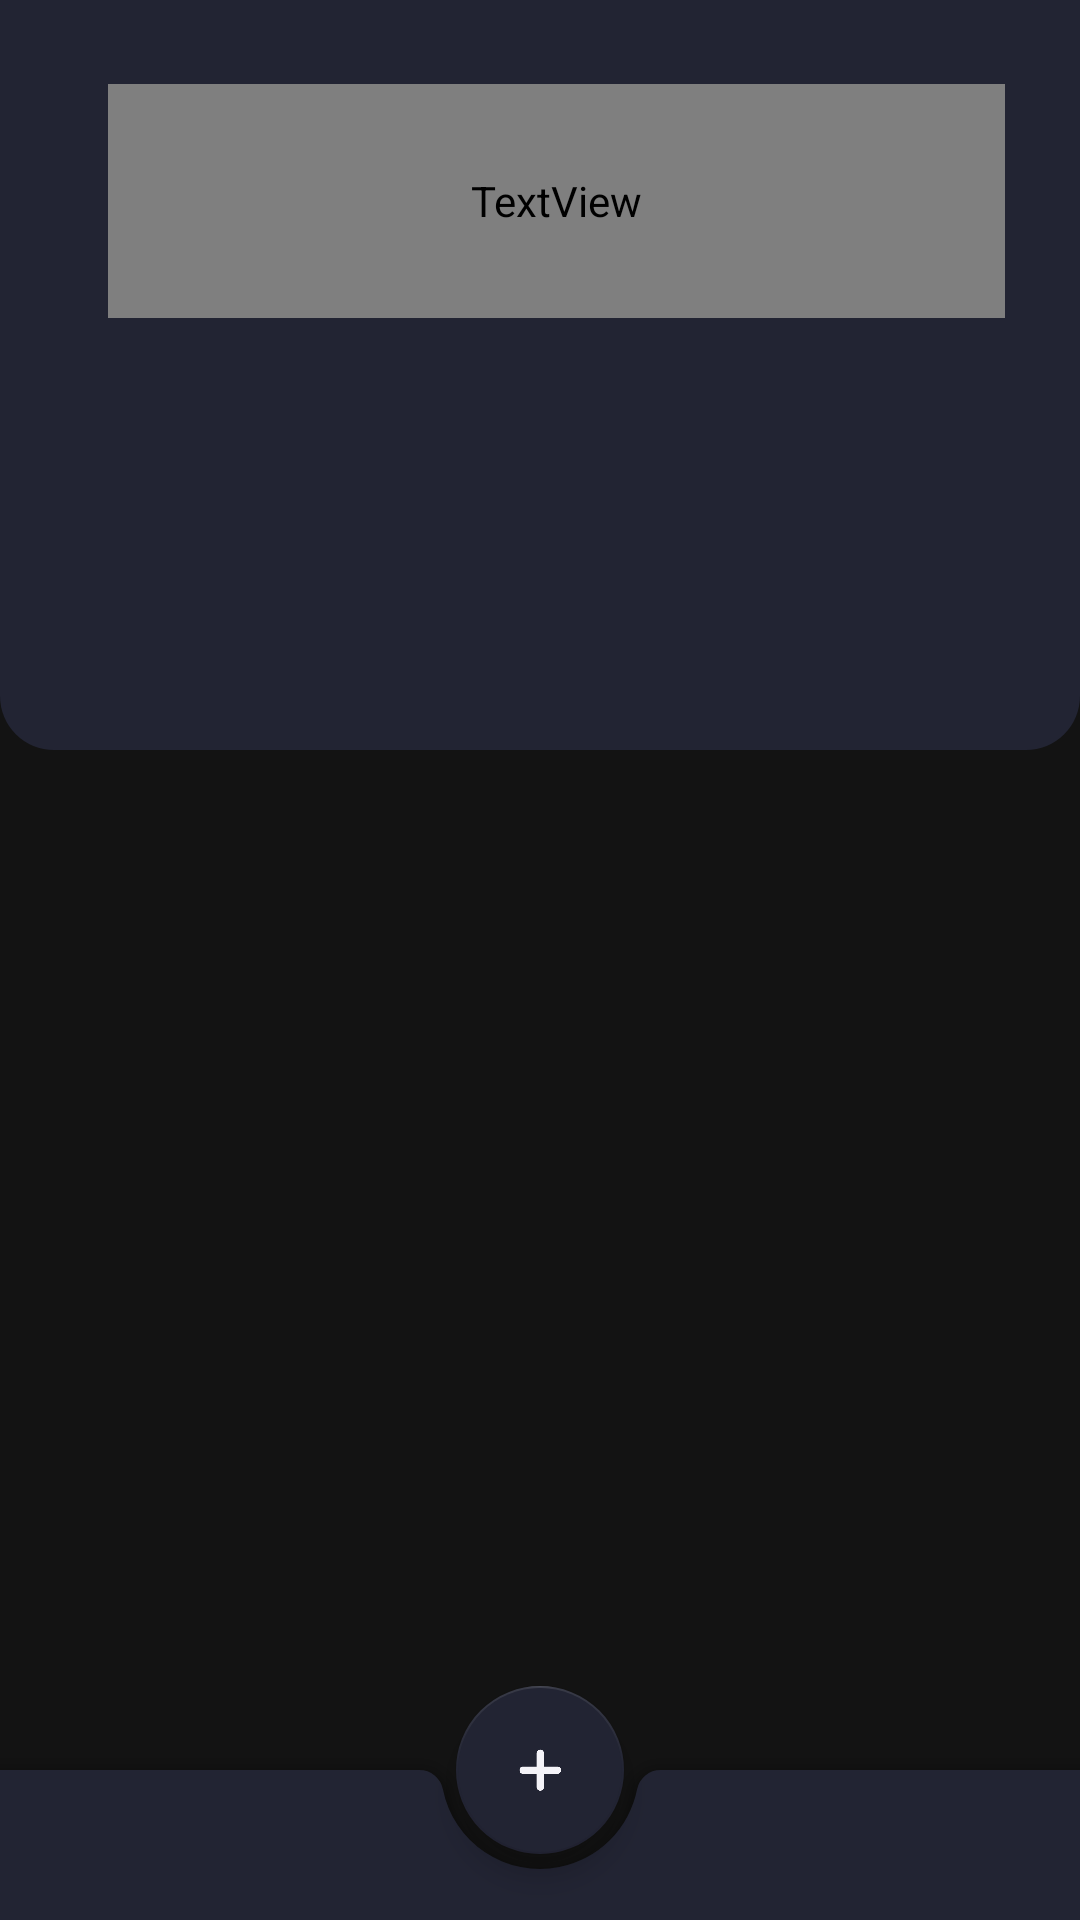

Icons on this 1080x1920 Android screen, each with the point to tap as (x,y):
cruz: (540,1770)
